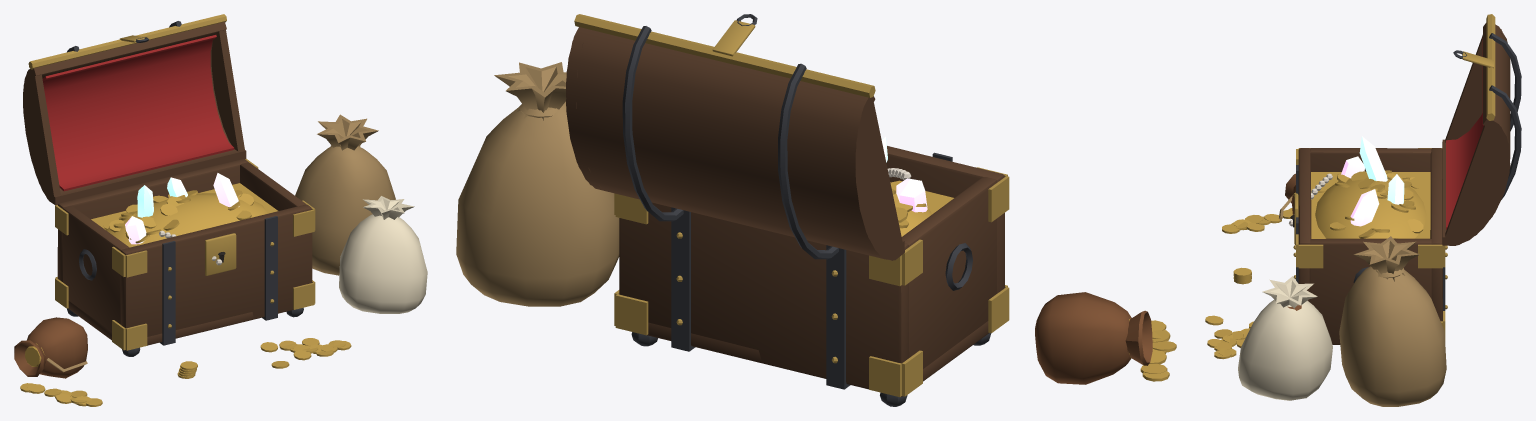
Rendered from deco_token_chest.fbx.
3 renders of one model, left to right at view 1: azimuth 30°, elevation 25°; view 2: azimuth 150°, elevation 25°; view 3: azimuth 270°, elevation 25°, orthographic. The views are drawn at different scales.
Visible parts, largest first — view 1: TokenChest_Box, TokenChest_Lid, TokenChest_Sacks, TokenChest_Coins; view 2: TokenChest_Box, TokenChest_Lid, TokenChest_Sacks, TokenChest_Coins; view 3: TokenChest_Sacks, TokenChest_Lid, TokenChest_Box, TokenChest_Coins.
Boxes of the visible parts, x1,y1,x2,y2 form: TokenChest_Box: (55, 159, 315, 356); TokenChest_Lid: (23, 14, 246, 205); TokenChest_Sacks: (14, 114, 427, 406); TokenChest_Coins: (91, 173, 351, 378); TokenChest_Box: (614, 146, 1009, 406); TokenChest_Lid: (566, 14, 904, 260); TokenChest_Sacks: (456, 62, 1176, 384); TokenChest_Coins: (881, 136, 953, 236); TokenChest_Sacks: (1222, 173, 1446, 406); TokenChest_Lid: (1442, 14, 1521, 245); TokenChest_Box: (1290, 148, 1447, 344); TokenChest_Coins: (1205, 136, 1430, 359).
Size of the model in its own units: 243 by 141 by 153.
